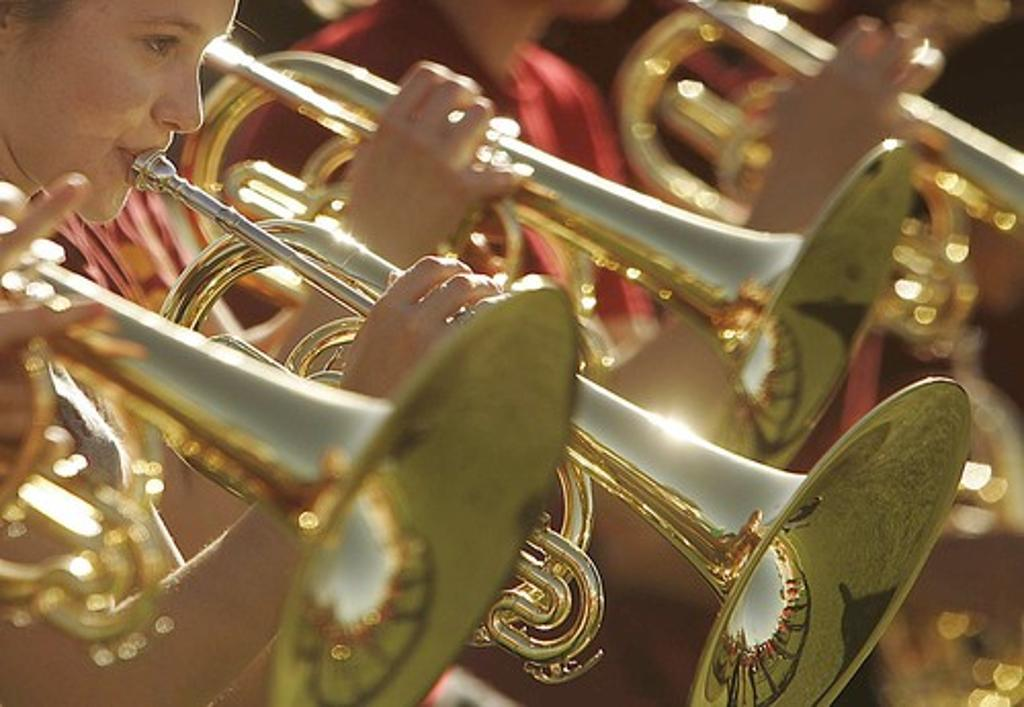face: (37, 3, 239, 223)
